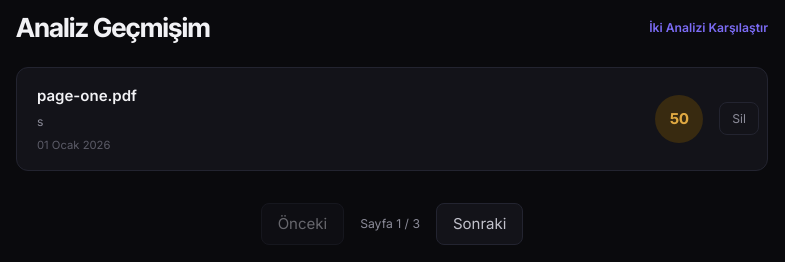
Test: HistoryPage › shows pagination controls and fetches the next page on click, without loading everything at once
Expected: the text "page-one.pdf" is shown, [37, 84, 137, 108]
Expected: the text "Sayfa 1 / 3" is shown, [360, 214, 420, 233]
Click the button "Sonraki": point(480, 224) [436, 203, 523, 245]
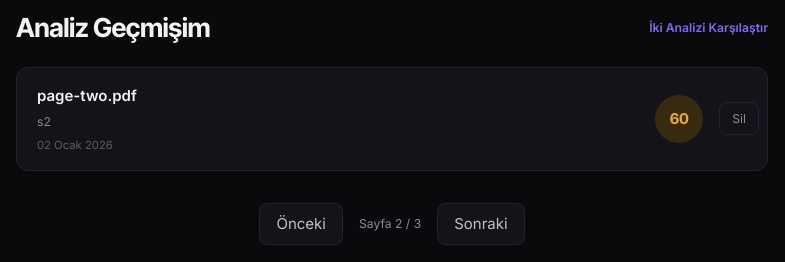
Expected: the text "page-two.pdf" is shown, [37, 84, 137, 108]
Expected: the link "page-one.pdf" is gone
Expected: the text "Sayfa 2 / 3" is shown, [359, 214, 421, 233]
